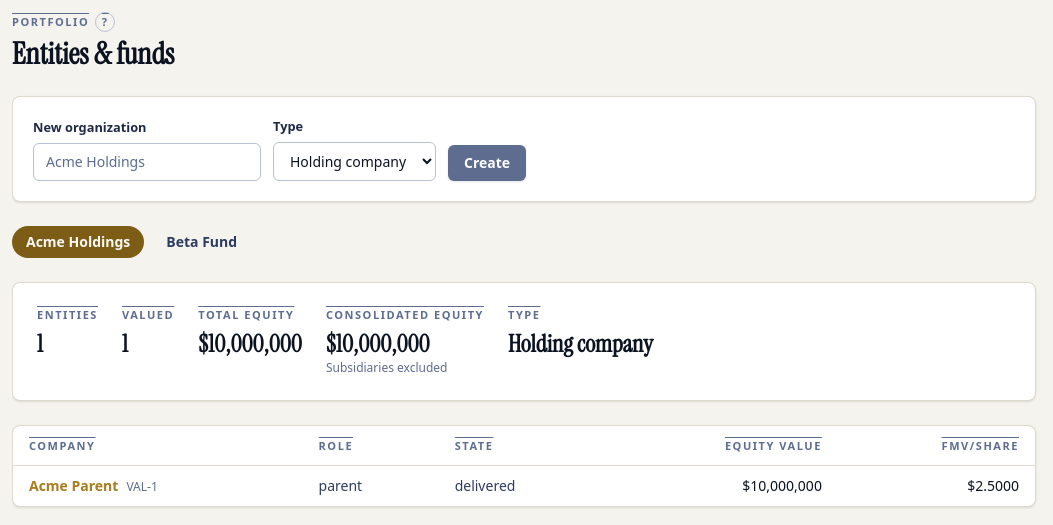
PortfolioPage — creating an organization › surfaces the server’s own reason when an organization cannot be opened
This screenshot has width=1053, height=525.
Click the button "Beta Fund" at (202, 242), box [152,226,251,258]
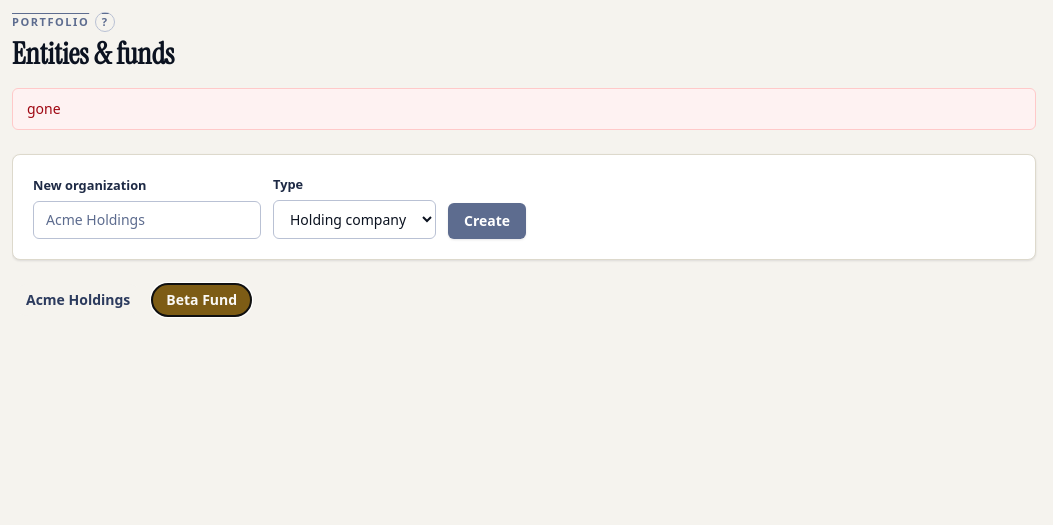
Expected: the text "gone" is shown, [12,88,1036,130]
